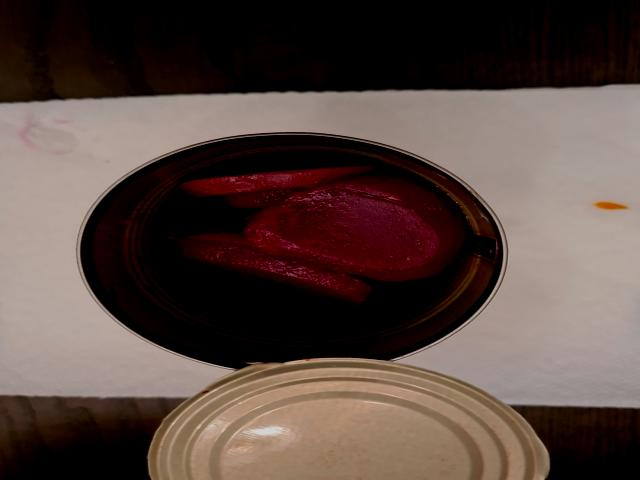kichen waste: (169, 168, 459, 316)
